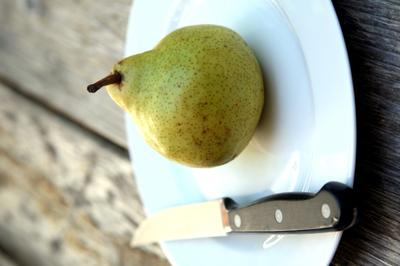pear: (0, 0, 400, 266)
